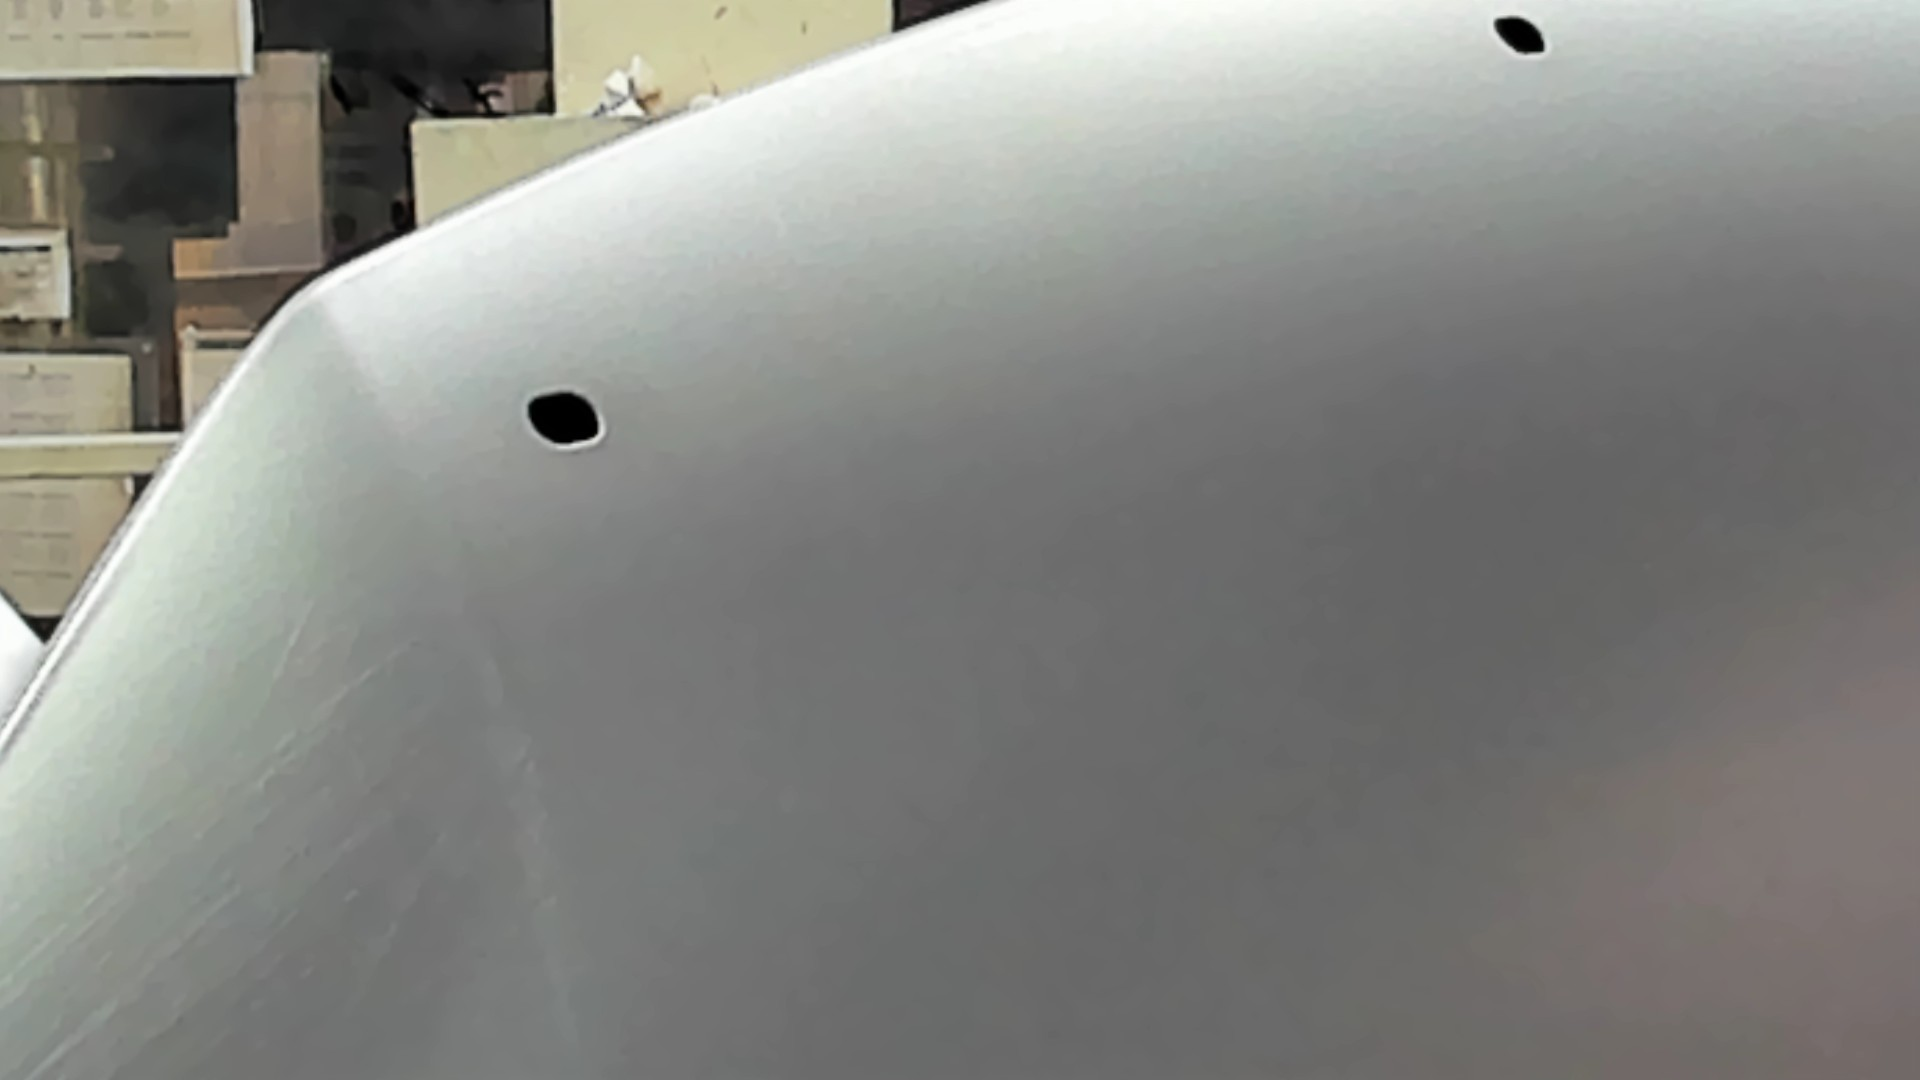amorfo: (520, 382, 611, 456), (1487, 11, 1552, 61)
capo: (737, 141, 1920, 1080)
